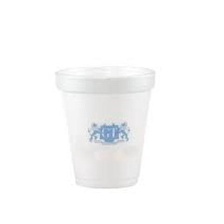paper_cup: (48, 60, 159, 192)
